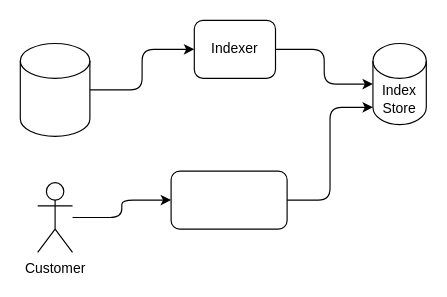
This 447x297 diagram has some shape labels left out. The centre of each missing label's shape, as x and y in pixels:
"HTML Store" goes at pixel 54 89.
"Query Processor" goes at pixel 228 199.
